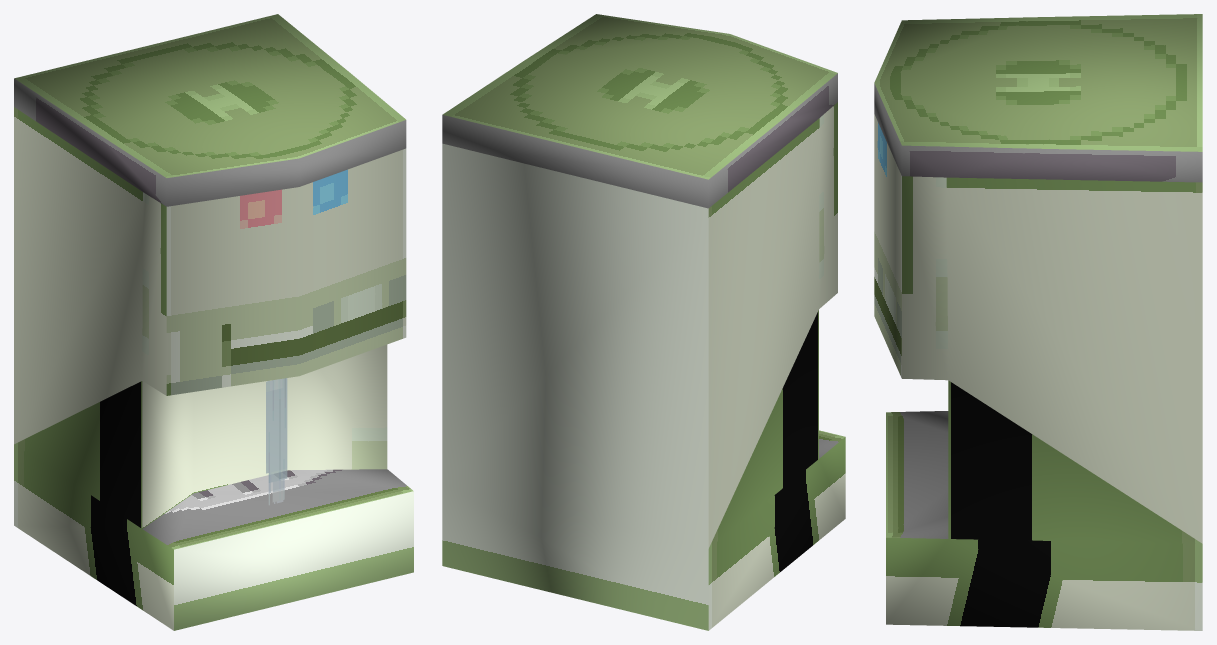
The picture shows the model from 3 angles, left to right: view 1: azimuth 30°, elevation 25°; view 2: azimuth 150°, elevation 25°; view 3: azimuth 270°, elevation 25°; orthographic projection. The views are drawn at different scales.
Visible parts, largest first — view 1: 3755kg_sh0_02; view 2: 3755kg_sh0_02; view 3: 3755kg_sh0_02.
Part boxes in pixels (x1,y1,x2,y2): 3755kg_sh0_02: (14, 14, 413, 630); 3755kg_sh0_02: (442, 14, 845, 630); 3755kg_sh0_02: (874, 14, 1202, 630).
Size of the model in its own units: 0.5919 by 0.9588 by 0.5958.
3 materials, 3 textured.
